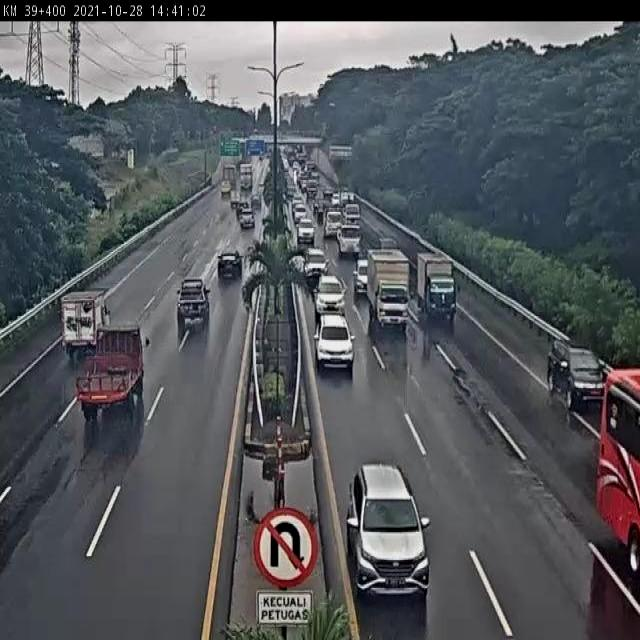Bus: (596, 364, 639, 574)
Car: (344, 456, 432, 612), (548, 342, 600, 410), (315, 320, 356, 378), (178, 277, 212, 328), (312, 272, 346, 316), (220, 252, 247, 281), (297, 220, 316, 243), (239, 212, 256, 230), (294, 205, 306, 223), (252, 194, 262, 212)
Truck: (82, 327, 143, 424), (366, 250, 412, 330), (58, 290, 113, 354), (415, 254, 459, 319), (342, 197, 363, 224), (323, 206, 340, 238), (220, 165, 235, 198), (240, 166, 253, 191), (307, 180, 317, 198)
Van: (338, 225, 360, 258)
